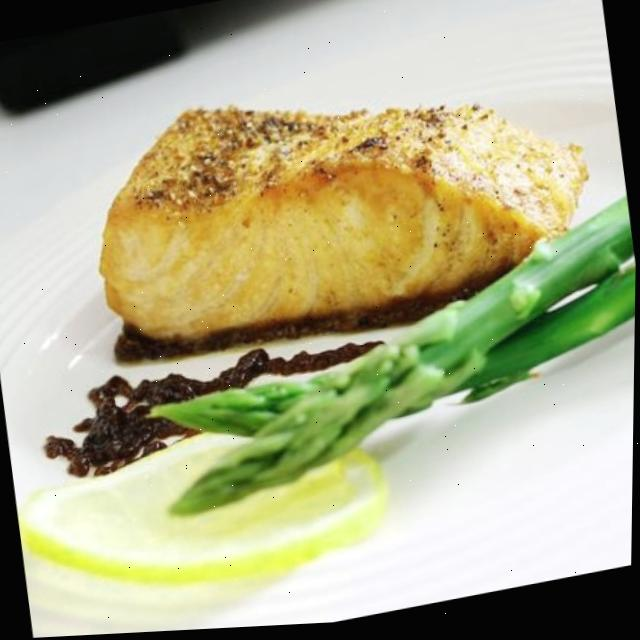熟制海鲜: (0, 0, 640, 599)
